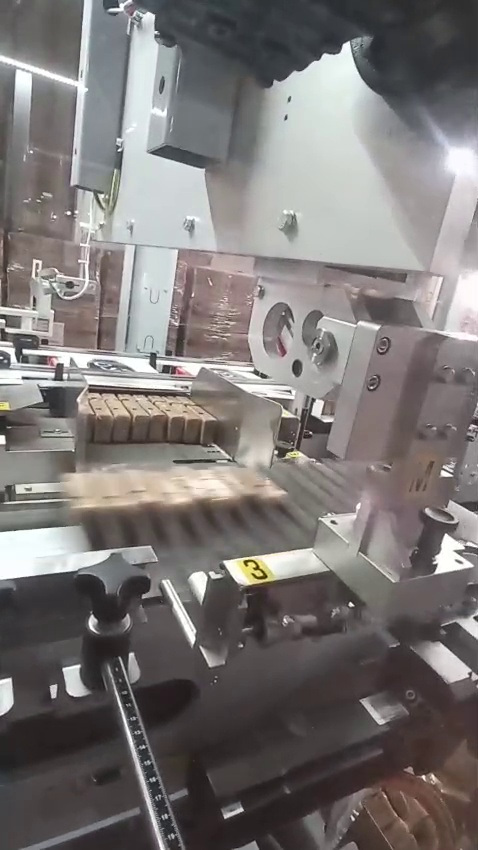savon: (69, 477, 280, 526), (371, 768, 472, 850), (87, 395, 240, 447), (236, 555, 281, 592), (410, 451, 441, 480), (168, 752, 188, 772), (276, 446, 300, 461), (359, 816, 378, 834)
